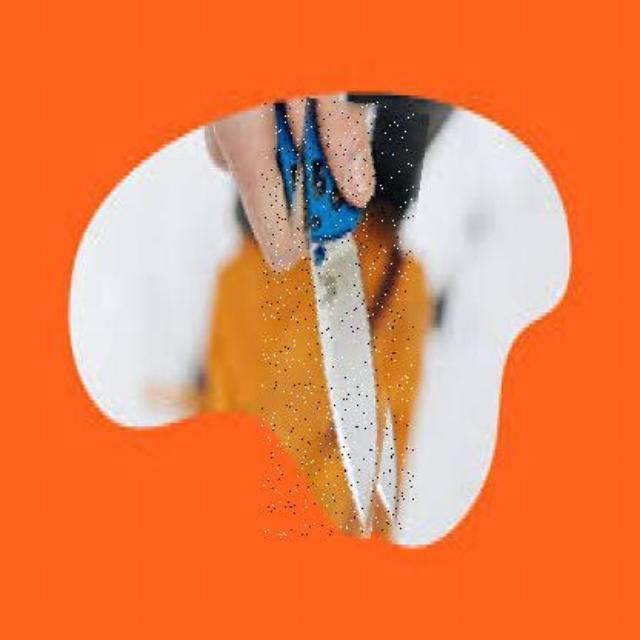Knife: (262, 100, 414, 536)
